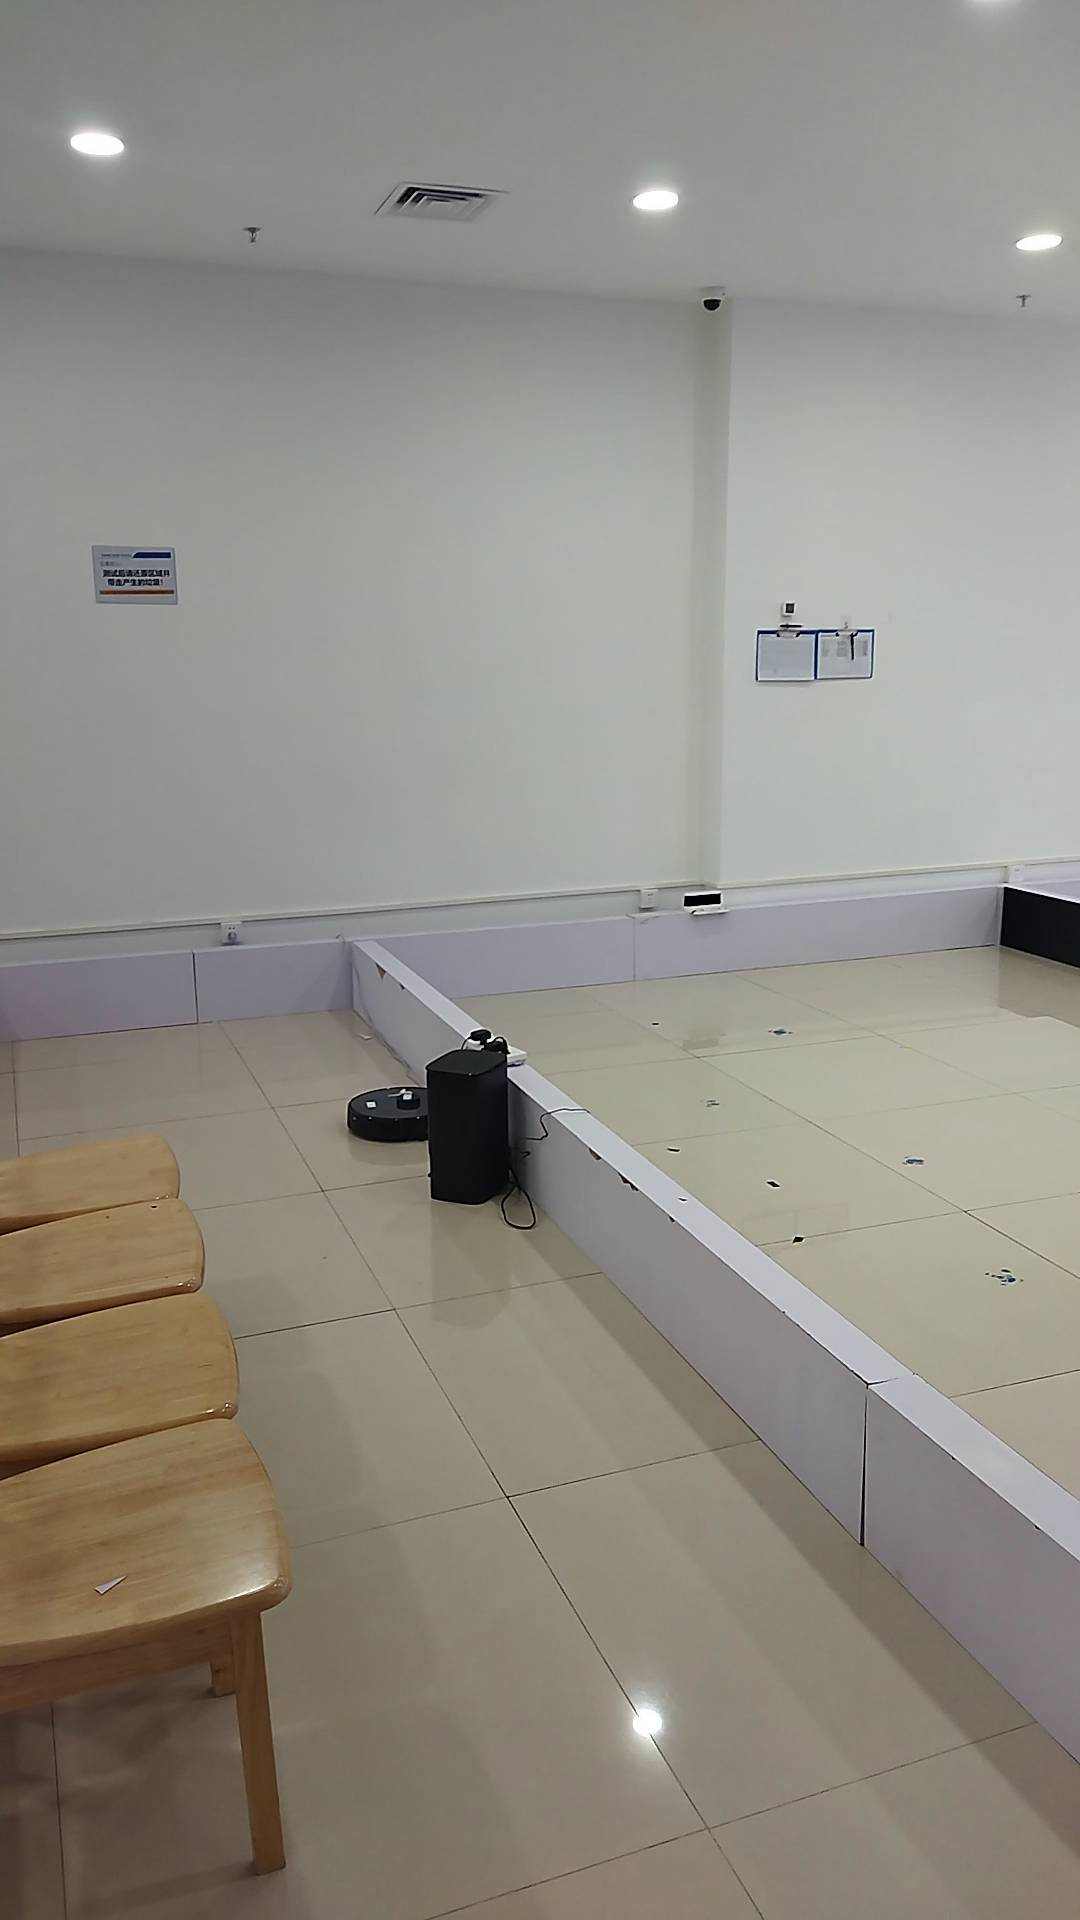dust collecting barrel: (425, 1052, 509, 1204)
recharge seat: (680, 891, 731, 916)
